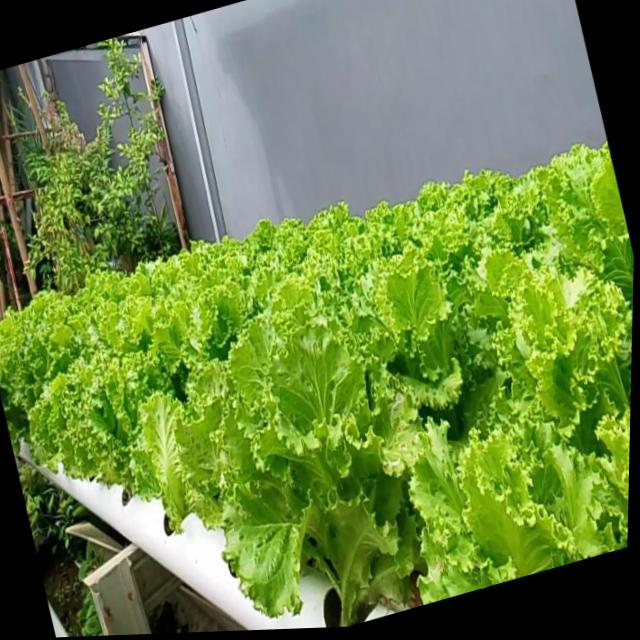Mature: (0, 124, 634, 627), (201, 317, 403, 612), (7, 304, 168, 506)
